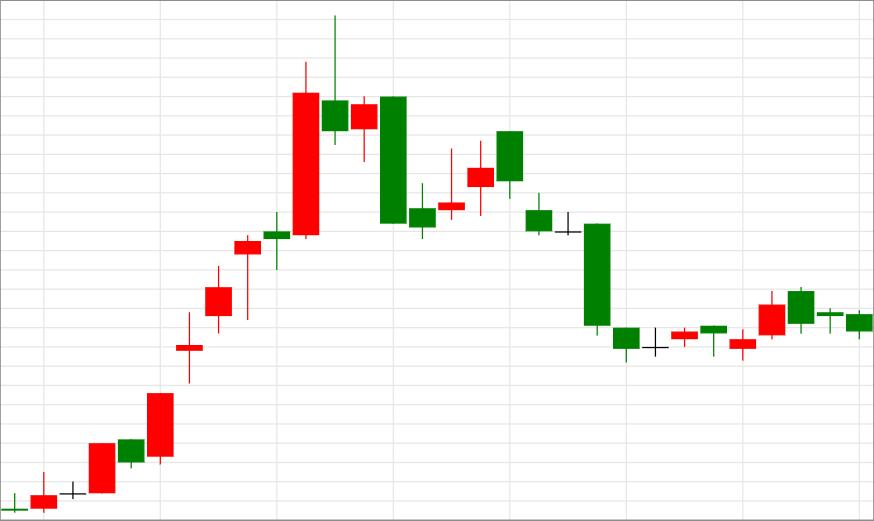shooting_star_fall: (2, 16, 348, 514)
